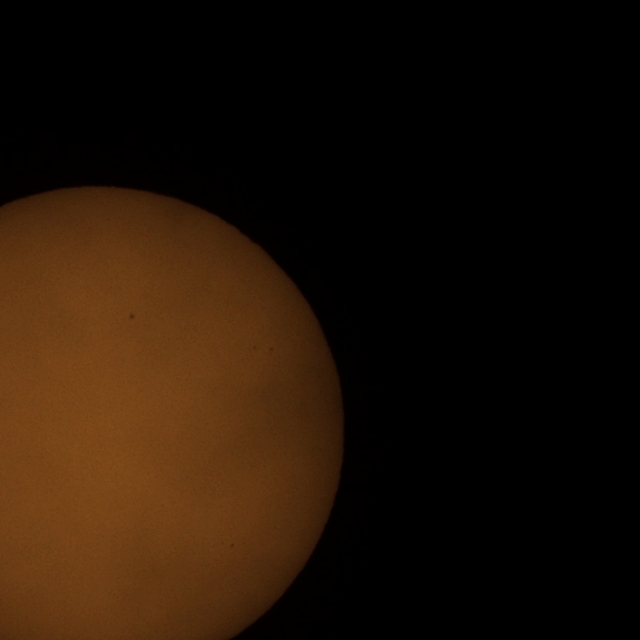sunspot: (128, 312, 136, 321), (229, 542, 235, 550)
